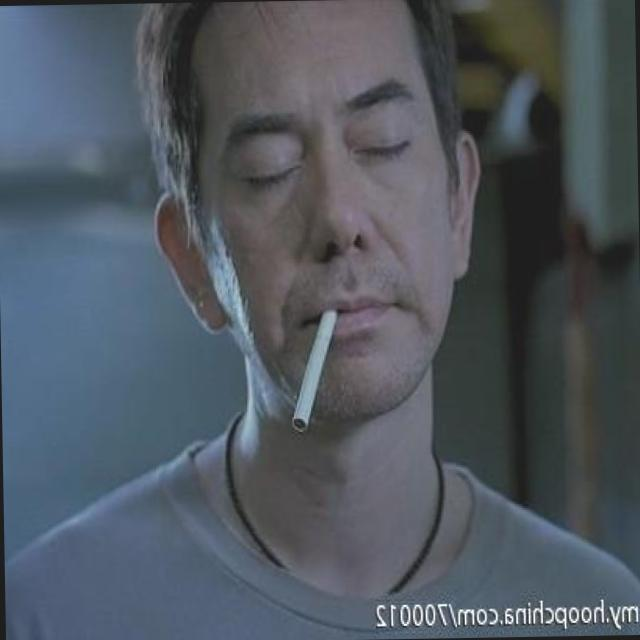cigarette: (289, 307, 339, 433)
